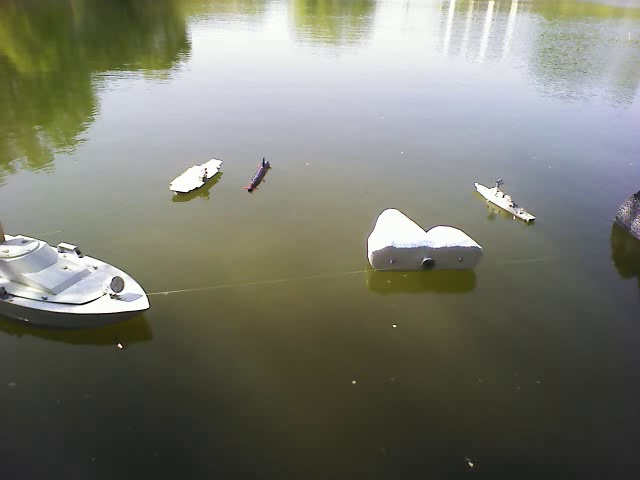aircraft_carrier: (168, 158, 229, 195)
boat: (3, 227, 157, 331)
iceberg: (365, 201, 484, 270)
rock: (611, 182, 639, 240)
submarine: (244, 159, 275, 196)
warship: (474, 176, 537, 223)
